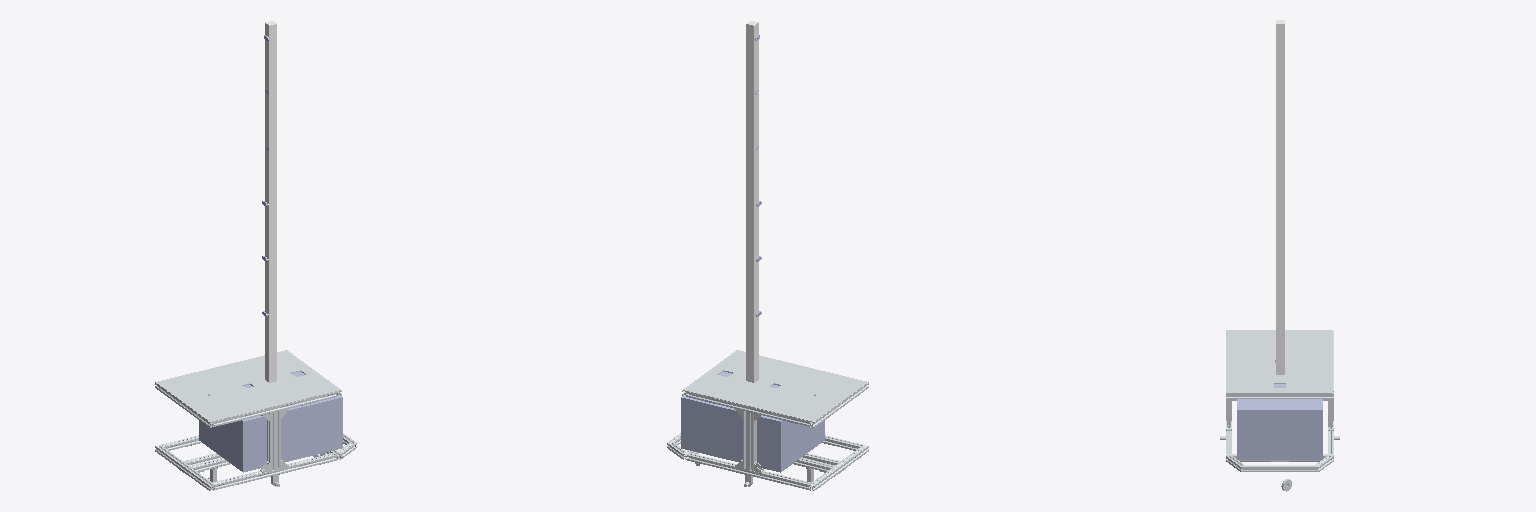
The robot description file, URDF, robot "GazeboV0":
<?xml version="1.0" encoding="utf-8"?>
<!-- This URDF was automatically created by SolidWorks to URDF Exporter! Originally created by [author] ([email redacted]) 
     Commit Version: 1.5.1-0-g916b5db  Build Version: 1.5.7152.31018
     For more information, please see http://wiki.ros.org/sw_urdf_exporter -->
<robot
  name="GazeboV0">
  <link
    name="Chassis">
    <inertial>
      <origin
        xyz="0.0269095443731569 0.0453323740979076 0.00338251947577584"
        rpy="0 0 0" />
      <mass
        value="4.71173330321545" />
      <inertia
        ixx="0.131230257498409"
        ixy="-0.00965992784236992"
        ixz="-5.99613989356189E-08"
        iyy="0.195410162986863"
        iyz="6.45264756717054E-06"
        izz="0.183471725736634" />
    </inertial>
    <visual>
      <origin
        xyz="0 0 0"
        rpy="0 0 0" />
      <geometry>
        <mesh
          filename="package://GazeboV0/meshes/Chassis.STL" />
      </geometry>
      <material
        name="">
        <color
          rgba="0.898039215686275 0.917647058823529 0.929411764705882 1" />
      </material>
    </visual>
    <collision>
      <origin
        xyz="0 0 0"
        rpy="0 0 0" />
      <geometry>
        <mesh
          filename="package://GazeboV0/meshes/Chassis.STL" />
      </geometry>
    </collision>
  </link>
  <link
    name="RightWheel">
    <inertial>
      <origin
        xyz="-4.16333634234434E-17 0 0.00510000000000468"
        rpy="0 0 0" />
      <mass
        value="0.338614058747035" />
      <inertia
        ixx="0.000347581051317554"
        ixy="-1.01643953670217E-20"
        ixz="-2.39239615850713E-18"
        iyy="0.000347581051317554"
        iyz="4.29776253994726E-19"
        izz="0.000689518301963574" />
    </inertial>
    <visual>
      <origin
        xyz="0 0 0"
        rpy="0 0 0" />
      <geometry>
        <mesh
          filename="package://GazeboV0/meshes/RightWheel.STL" />
      </geometry>
      <material
        name="">
        <color
          rgba="0.898039215686275 0.917647058823529 0.929411764705882 1" />
      </material>
    </visual>
    <collision>
      <origin
        xyz="0 0 0"
        rpy="0 0 0" />
      <geometry>
        <mesh
          filename="package://GazeboV0/meshes/RightWheel.STL" />
      </geometry>
    </collision>
  </link>
  <joint
    name="RightRevolute"
    type="continuous">
    <origin
      xyz="0.040115 0.18594 -0.13626"
      rpy="-1.5708 0.15664 0" />
    <parent
      link="Chassis" />
    <child
      link="RightWheel" />
    <axis
      xyz="0 0 1" />
    <dynamics
      damping="0.01"
      friction="0.01" />
  </joint>
  <link
    name="LeftWheel">
    <inertial>
      <origin
        xyz="9.75608482889356E-15 -3.19189119579733E-16 -0.384296129215001"
        rpy="0 0 0" />
      <mass
        value="0.338614058747035" />
      <inertia
        ixx="0.000347581051317554"
        ixy="3.65109595413485E-32"
        ixz="-8.76963966855234E-18"
        iyy="0.000347581051317554"
        iyz="3.26098816688528E-19"
        izz="0.000689518301963574" />
    </inertial>
    <visual>
      <origin
        xyz="0 0 0"
        rpy="0 0 0" />
      <geometry>
        <mesh
          filename="package://GazeboV0/meshes/LeftWheel.STL" />
      </geometry>
      <material
        name="">
        <color
          rgba="0.898039215686275 0.917647058823529 0.929411764705882 1" />
      </material>
    </visual>
    <collision>
      <origin
        xyz="0 0 0"
        rpy="0 0 0" />
      <geometry>
        <mesh
          filename="package://GazeboV0/meshes/LeftWheel.STL" />
      </geometry>
    </collision>
  </link>
  <joint
    name="LeftRevolute"
    type="continuous">
    <origin
      xyz="0.040115 0.18594 -0.13626"
      rpy="-1.5708 -0.8089 0" />
    <parent
      link="Chassis" />
    <child
      link="LeftWheel" />
    <axis
      xyz="0 0 1" />
    <dynamics
      damping="0.01"
      friction="0.01" />
  </joint>
  <link
    name="FrontCastor">
    <inertial>
      <origin
        xyz="0.0030314489318095 0.0345627416364458 -2.33146835171283E-15"
        rpy="0 0 0" />
      <mass
        value="0.0671525104446695" />
      <inertia
        ixx="4.49259698602968E-05"
        ixy="-6.70501812216222E-06"
        ixz="6.59626907674286E-20"
        iyy="9.61913985679315E-06"
        iyz="3.5488033511995E-19"
        izz="4.97992078191438E-05" />
    </inertial>
    <visual>
      <origin
        xyz="0 0 0"
        rpy="0 0 0" />
      <geometry>
        <mesh
          filename="package://GazeboV0/meshes/FrontCastor.STL" />
      </geometry>
      <material
        name="">
        <color
          rgba="0.898039215686275 0.917647058823529 0.929411764705882 1" />
      </material>
    </visual>
    <collision>
      <origin
        xyz="0 0 0"
        rpy="0 0 0" />
      <geometry>
        <mesh
          filename="package://GazeboV0/meshes/FrontCastor.STL" />
      </geometry>
    </collision>
  </link>
  <joint
    name="FrontCastorRevolute"
    type="continuous">
    <origin
      xyz="-0.17901 -0.0033514 -0.11126"
      rpy="-1.5708 0 1.5956" />
    <parent
      link="Chassis" />
    <child
      link="FrontCastor" />
    <axis
      xyz="0 1 0" />
    <dynamics
      damping="0.01"
      friction="0.01" />
  </joint>
  <link
    name="FrontCastorWheel">
    <inertial>
      <origin
        xyz="0 -1.38777878078145E-17 -2.692290834716E-15"
        rpy="0 0 0" />
      <mass
        value="0.0317645176567402" />
      <inertia
        ixx="3.91504603938205E-06"
        ixy="7.41153828847513E-22"
        ixz="2.11096492323533E-21"
        iyy="3.91504603938204E-06"
        iyz="-3.64621214013375E-21"
        izz="7.40108172021949E-06" />
    </inertial>
    <visual>
      <origin
        xyz="0 0 0"
        rpy="0 0 0" />
      <geometry>
        <mesh
          filename="package://GazeboV0/meshes/FrontCastorWheel.STL" />
      </geometry>
      <material
        name="">
        <color
          rgba="0.898039215686275 0.917647058823529 0.929411764705882 1" />
      </material>
    </visual>
    <collision>
      <origin
        xyz="0 0 0"
        rpy="0 0 0" />
      <geometry>
        <mesh
          filename="package://GazeboV0/meshes/FrontCastorWheel.STL" />
      </geometry>
    </collision>
  </link>
  <joint
    name="FrontCastorWheelRevolute"
    type="continuous">
    <origin
      xyz="0.032 0.0675 0"
      rpy="0 0 1.984" />
    <parent
      link="FrontCastor" />
    <child
      link="FrontCastorWheel" />
    <axis
      xyz="0 0 1" />
    <dynamics
      damping="0.01"
      friction="0.01" />
  </joint>
  <link
    name="RearCastor">
    <inertial>
      <origin
        xyz="0.00303144893180851 0.0345627416364456 -1.22124532708767E-14"
        rpy="0 0 0" />
      <mass
        value="0.0671525104446697" />
      <inertia
        ixx="4.49259698602973E-05"
        ixy="-6.70501812216102E-06"
        ixz="3.2695471764016E-19"
        iyy="9.61913985679271E-06"
        iyz="1.94821687675364E-18"
        izz="4.97992078191438E-05" />
    </inertial>
    <visual>
      <origin
        xyz="0 0 0"
        rpy="0 0 0" />
      <geometry>
        <mesh
          filename="package://GazeboV0/meshes/RearCastor.STL" />
      </geometry>
      <material
        name="">
        <color
          rgba="0.898039215686275 0.917647058823529 0.929411764705882 1" />
      </material>
    </visual>
    <collision>
      <origin
        xyz="0 0 0"
        rpy="0 0 0" />
      <geometry>
        <mesh
          filename="package://GazeboV0/meshes/RearCastor.STL" />
      </geometry>
    </collision>
  </link>
  <joint
    name="RearCastorRevolute"
    type="continuous">
    <origin
      xyz="0.25924 -0.0033514 -0.11126"
      rpy="-1.5708 0 2.3562" />
    <parent
      link="Chassis" />
    <child
      link="RearCastor" />
    <axis
      xyz="0 1 0" />
    <dynamics
      damping="0.01"
      friction="0.01" />
  </joint>
  <link
    name="RearCastorWheel">
    <inertial>
      <origin
        xyz="0 2.77555756156289E-17 -1.01862962509358E-14"
        rpy="0 0 0" />
      <mass
        value="0.0317645176567403" />
      <inertia
        ixx="3.91504603938205E-06"
        ixy="-5.82335151237331E-22"
        ixz="-1.79994501291539E-21"
        iyy="3.91504603938205E-06"
        iyz="1.05879118406788E-22"
        izz="7.4010817202195E-06" />
    </inertial>
    <visual>
      <origin
        xyz="0 0 0"
        rpy="0 0 0" />
      <geometry>
        <mesh
          filename="package://GazeboV0/meshes/RearCastorWheel.STL" />
      </geometry>
      <material
        name="">
        <color
          rgba="0.898039215686275 0.917647058823529 0.929411764705882 1" />
      </material>
    </visual>
    <collision>
      <origin
        xyz="0 0 0"
        rpy="0 0 0" />
      <geometry>
        <mesh
          filename="package://GazeboV0/meshes/RearCastorWheel.STL" />
      </geometry>
    </collision>
  </link>
  <joint
    name="RearCastorWheelRevolute"
    type="continuous">
    <origin
      xyz="0.032 0.0675 0"
      rpy="0 0 0.34434" />
    <parent
      link="RearCastor" />
    <child
      link="RearCastorWheel" />
    <axis
      xyz="0 0 1" />
    <dynamics
      damping="0.01"
      friction="0.01" />
  </joint>
  <link
    name="Battery">
    <inertial>
      <origin
        xyz="-2.77555756156289E-17 0.0925 2.82152773367628E-15"
        rpy="0 0 0" />
      <mass
        value="17.512433" />
      <inertia
        ixx="0.172679886227083"
        ixy="-7.17521943866141E-17"
        ixz="-9.46607853575198E-16"
        iyy="0.333465911708333"
        iyz="2.24903143829696E-15"
        izz="0.260679862052083" />
    </inertial>
    <visual>
      <origin
        xyz="0 0 0"
        rpy="0 0 0" />
      <geometry>
        <mesh
          filename="package://GazeboV0/meshes/Battery.STL" />
      </geometry>
      <material
        name="">
        <color
          rgba="0.792156862745098 0.819607843137255 0.933333333333333 1" />
      </material>
    </visual>
    <collision>
      <origin
        xyz="0 0 0"
        rpy="0 0 0" />
      <geometry>
        <mesh
          filename="package://GazeboV0/meshes/Battery.STL" />
      </geometry>
    </collision>
  </link>
  <joint
    name="Fixed_Chassis_Battery"
    type="fixed">
    <origin
      xyz="0.040115 -0.0036514 0.097745"
      rpy="-1.5708 0 3.1416" />
    <parent
      link="Chassis" />
    <child
      link="Battery" />
    <axis
      xyz="0 0 0" />
  </joint>
  <link
    name="LiDAR">
    <inertial>
      <origin
        xyz="-2.77555756156289E-17 0.02 5.63785129692462E-18"
        rpy="0 0 0" />
      <mass
        value="0.064" />
      <inertia
        ixx="1.70666666666667E-05"
        ixy="2.58629900392802E-22"
        ixz="8.21376807141E-22"
        iyy="1.70666666666667E-05"
        iyz="1.20423640868724E-22"
        izz="1.70666666666667E-05" />
    </inertial>
    <visual>
      <origin
        xyz="0 0 0"
        rpy="0 0 0" />
      <geometry>
        <mesh
          filename="package://GazeboV0/meshes/LiDAR.STL" />
      </geometry>
      <material
        name="">
        <color
          rgba="0.792156862745098 0.819607843137255 0.933333333333333 1" />
      </material>
    </visual>
    <collision>
      <origin
        xyz="0 0 0"
        rpy="0 0 0" />
      <geometry>
        <mesh
          filename="package://GazeboV0/meshes/LiDAR.STL" />
      </geometry>
    </collision>
  </link>
  <joint
    name="Fixed_Battery_LiDAR"
    type="fixed">
    <origin
      xyz="-0.14989 -0.0033514 0.10474"
      rpy="1.5708 0 3.1416" />
    <parent
      link="Chassis" />
    <child
      link="LiDAR" />
    <axis
      xyz="0 0 0" />
  </joint>
  <link
    name="WoodRod">
    <inertial>
      <origin
        xyz="-2.26988566831565E-15 -5.15756125557543E-06 0.650041260490045"
        rpy="0 0 0" />
      <mass
        value="0.701710470821045" />
      <inertia
        ixx="0.098880929063303"
        ixy="-5.19150998271822E-22"
        ixz="3.44989160057102E-16"
        iyy="0.0988809460746776"
        iyz="-3.62060800140933E-07"
        izz="0.000105225289802979" />
    </inertial>
    <visual>
      <origin
        xyz="0 0 0"
        rpy="0 0 0" />
      <geometry>
        <mesh
          filename="package://GazeboV0/meshes/WoodRod.STL" />
      </geometry>
      <material
        name="">
        <color
          rgba="1 1 1 1" />
      </material>
    </visual>
    <collision>
      <origin
        xyz="0 0 0"
        rpy="0 0 0" />
      <geometry>
        <mesh
          filename="package://GazeboV0/meshes/WoodRod.STL" />
      </geometry>
    </collision>
  </link>
  <joint
    name="Fixed_Chassis_WoodRod"
    type="fixed">
    <origin
      xyz="0.040115 -0.0033514 1.4407"
      rpy="3.1416 0 -1.5708" />
    <parent
      link="Chassis" />
    <child
      link="WoodRod" />
    <axis
      xyz="0 0 0" />
  </joint>
  <link
    name="TBS1">
    <inertial>
      <origin
        xyz="-2.08166817117217E-17 0 -0.00275"
        rpy="0 0 0" />
      <mass
        value="0.00173867551882195" />
      <inertia
        ixx="2.81242393072002E-08"
        ixy="-1.07733169308297E-25"
        ixz="6.43232433632577E-22"
        iyy="9.57958648484737E-08"
        iyz="4.9157531355283E-25"
        izz="1.1515428174828E-07" />
    </inertial>
    <visual>
      <origin
        xyz="0 0 0"
        rpy="0 0 0" />
      <geometry>
        <mesh
          filename="package://GazeboV0/meshes/TBS1.STL" />
      </geometry>
      <material
        name="">
        <color
          rgba="0.792156862745098 0.819607843137255 0.933333333333333 1" />
      </material>
    </visual>
    <collision>
      <origin
        xyz="0 0 0"
        rpy="0 0 0" />
      <geometry>
        <mesh
          filename="package://GazeboV0/meshes/TBS1.STL" />
      </geometry>
    </collision>
  </link>
  <joint
    name="Fixed_WoodRod_TBS1"
    type="fixed">
    <origin
      xyz="0 0.0205 1.05"
      rpy="-1.5708 0 0" />
    <parent
      link="WoodRod" />
    <child
      link="TBS1" />
    <axis
      xyz="0 0 0" />
  </joint>
  <link
    name="TBS2">
    <inertial>
      <origin
        xyz="-2.99239799605999E-17 0 -0.00275"
        rpy="0 0 0" />
      <mass
        value="0.00173867551882196" />
      <inertia
        ixx="2.81242393072003E-08"
        ixy="-7.56516223604374E-23"
        ixz="6.43735947518725E-22"
        iyy="9.57958648484739E-08"
        iyz="-2.36343625492949E-25"
        izz="1.1515428174828E-07" />
    </inertial>
    <visual>
      <origin
        xyz="0 0 0"
        rpy="0 0 0" />
      <geometry>
        <mesh
          filename="package://GazeboV0/meshes/TBS2.STL" />
      </geometry>
      <material
        name="">
        <color
          rgba="0.792156862745098 0.819607843137255 0.933333333333333 1" />
      </material>
    </visual>
    <collision>
      <origin
        xyz="0 0 0"
        rpy="0 0 0" />
      <geometry>
        <mesh
          filename="package://GazeboV0/meshes/TBS2.STL" />
      </geometry>
    </collision>
  </link>
  <joint
    name="Fixed_WoodRod_TBS2"
    type="fixed">
    <origin
      xyz="0 0.0205 0.85"
      rpy="-1.5707963267949 0 0" />
    <parent
      link="WoodRod" />
    <child
      link="TBS2" />
    <axis
      xyz="0 0 0" />
  </joint>
  <link
    name="TBS3">
    <inertial>
      <origin
        xyz="-2.12503625807159E-17 0 -0.00275"
        rpy="0 0 0" />
      <mass
        value="0.00173867551882195" />
      <inertia
        ixx="2.81242393072002E-08"
        ixy="-1.50916302612396E-22"
        ixz="6.44887958080419E-22"
        iyy="9.57958648484737E-08"
        iyz="-2.36343625492254E-25"
        izz="1.1515428174828E-07" />
    </inertial>
    <visual>
      <origin
        xyz="0 0 0"
        rpy="0 0 0" />
      <geometry>
        <mesh
          filename="package://GazeboV0/meshes/TBS3.STL" />
      </geometry>
      <material
        name="">
        <color
          rgba="0.792156862745098 0.819607843137255 0.933333333333333 1" />
      </material>
    </visual>
    <collision>
      <origin
        xyz="0 0 0"
        rpy="0 0 0" />
      <geometry>
        <mesh
          filename="package://GazeboV0/meshes/TBS3.STL" />
      </geometry>
    </collision>
  </link>
  <joint
    name="Fixed_WoodRod_TBS3"
    type="fixed">
    <origin
      xyz="0 0.0205 0.65"
      rpy="-1.5707963267949 0 0" />
    <parent
      link="WoodRod" />
    <child
      link="TBS3" />
    <axis
      xyz="0 0 0" />
  </joint>
  <link
    name="TBS4">
    <inertial>
      <origin
        xyz="2.73218947466347E-17 4.09782208166121E-11 -0.00275000000000001"
        rpy="0 0 0" />
      <mass
        value="0.00173867551882195" />
      <inertia
        ixx="2.81242393072002E-08"
        ixy="-1.57689833672588E-22"
        ixz="-6.4427241597485E-22"
        iyy="9.57958648484737E-08"
        iyz="-2.88462890935071E-16"
        izz="1.1515428174828E-07" />
    </inertial>
    <visual>
      <origin
        xyz="0 0 0"
        rpy="0 0 0" />
      <geometry>
        <mesh
          filename="package://GazeboV0/meshes/TBS4.STL" />
      </geometry>
      <material
        name="">
        <color
          rgba="0.792156862745098 0.819607843137255 0.933333333333333 1" />
      </material>
    </visual>
    <collision>
      <origin
        xyz="0 0 0"
        rpy="0 0 0" />
      <geometry>
        <mesh
          filename="package://GazeboV0/meshes/TBS4.STL" />
      </geometry>
    </collision>
  </link>
  <joint
    name="Fixed_WoodRod_TBS4"
    type="fixed">
    <origin
      xyz="0 0.015 0.45"
      rpy="1.57079631189374 0 0" />
    <parent
      link="WoodRod" />
    <child
      link="TBS4" />
    <axis
      xyz="0 0 0" />
  </joint>
  <link
    name="TBS5">
    <inertial>
      <origin
        xyz="3.03576608295941E-18 4.09781097943096E-11 -0.00275"
        rpy="0 0 0" />
      <mass
        value="0.00173867551882196" />
      <inertia
        ixx="2.81242393072001E-08"
        ixy="-1.73790056307107E-22"
        ixz="-6.47487423003288E-22"
        iyy="9.57958648484739E-08"
        iyz="-2.88462890345463E-16"
        izz="1.1515428174828E-07" />
    </inertial>
    <visual>
      <origin
        xyz="0 0 0"
        rpy="0 0 0" />
      <geometry>
        <mesh
          filename="package://GazeboV0/meshes/TBS5.STL" />
      </geometry>
      <material
        name="">
        <color
          rgba="0.792156862745098 0.819607843137255 0.933333333333333 1" />
      </material>
    </visual>
    <collision>
      <origin
        xyz="0 0 0"
        rpy="0 0 0" />
      <geometry>
        <mesh
          filename="package://GazeboV0/meshes/TBS5.STL" />
      </geometry>
    </collision>
  </link>
  <joint
    name="Fixed_WoodRod_TBS5"
    type="fixed">
    <origin
      xyz="0 0.015 0.25"
      rpy="1.57079631189374 0 0" />
    <parent
      link="WoodRod" />
    <child
      link="TBS5" />
    <axis
      xyz="0 0 0" />
  </joint>
  <link
    name="TBS6">
    <inertial>
      <origin
        xyz="-3.86902350435481E-11 3.69675751390464E-05 0.00274975151575344"
        rpy="0 0 0" />
      <mass
        value="0.00173867551882195" />
      <inertia
        ixx="2.81242393072E-08"
        ixy="-3.66121094548663E-18"
        ixz="-1.22450245460564E-15"
        iyy="9.5799363062521E-08"
        iyz="2.60206933872073E-10"
        izz="1.15150783534232E-07" />
    </inertial>
    <visual>
      <origin
        xyz="0 0 0"
        rpy="0 0 0" />
      <geometry>
        <mesh
          filename="package://GazeboV0/meshes/TBS6.STL" />
      </geometry>
      <material
        name="">
        <color
          rgba="0.792156862745098 0.819607843137255 0.933333333333333 1" />
      </material>
    </visual>
    <collision>
      <origin
        xyz="0 0 0"
        rpy="0 0 0" />
      <geometry>
        <mesh
          filename="package://GazeboV0/meshes/TBS6.STL" />
      </geometry>
    </collision>
  </link>
  <joint
    name="Fixed_WoodRod_TBS6"
    type="fixed">
    <origin
      xyz="0 0.015 0.0500000000000003"
      rpy="-1.55735316729788 0 0" />
    <parent
      link="WoodRod" />
    <child
      link="TBS6" />
    <axis
      xyz="0 0 0" />
  </joint>
  <link
    name="Camera">
    <inertial>
      <origin
        xyz="0 0.0025 0"
        rpy="0 0 0" />
      <mass
        value="0.000125" />
      <inertia
        ixx="5.20833333333335E-10"
        ixy="3.24240024973725E-25"
        ixz="2.35533258742828E-26"
        iyy="5.20833333333335E-10"
        iyz="-4.66256020423435E-25"
        izz="5.20833333333335E-10" />
    </inertial>
    <visual>
      <origin
        xyz="0 0 0"
        rpy="0 0 0" />
      <geometry>
        <mesh
          filename="package://GazeboV0/meshes/Camera.STL" />
      </geometry>
      <material
        name="">
        <color
          rgba="0.792156862745098 0.819607843137255 0.933333333333333 1" />
      </material>
    </visual>
    <collision>
      <origin
        xyz="0 0 0"
        rpy="0 0 0" />
      <geometry>
        <mesh
          filename="package://GazeboV0/meshes/Camera.STL" />
      </geometry>
    </collision>
  </link>
  <joint
    name="Fixed_Chassis_Camera"
    type="fixed">
    <origin
      xyz="-0.19689 -0.00085136 0.14724"
      rpy="-3.1416 0 0" />
    <parent
      link="Chassis" />
    <child
      link="Camera" />
    <axis
      xyz="0 0 0" />
  </joint>
</robot>

--- Render facts (derived) ---
Views: 3 orthographic renders of the robot side by side, from view 1: azimuth 30°, elevation 25°; view 2: azimuth 150°, elevation 25°; view 3: azimuth 270°, elevation 25°.
Model GazeboV0 with 17 links and 16 joints (6 continuous, 10 fixed), rooted at Chassis, posed all joints at 0.
Links seen in each view (by area): view 1: Chassis, Battery, WoodRod; view 2: Chassis, Battery, WoodRod; view 3: Chassis, Battery, WoodRod.
Boxes of the visible links, x1=… form: Chassis: x1=155, y1=350, x2=356, y2=490; Battery: x1=199, y1=371, x2=342, y2=472; WoodRod: x1=265, y1=21, x2=276, y2=382; Chassis: x1=667, y1=350, x2=868, y2=490; Battery: x1=681, y1=371, x2=824, y2=472; WoodRod: x1=746, y1=21, x2=758, y2=382; Chassis: x1=1220, y1=330, x2=1339, y2=471; Battery: x1=1237, y1=362, x2=1322, y2=459; WoodRod: x1=1276, y1=20, x2=1284, y2=374.
Bounding box of the posed robot: 0.5866 × 0.3994 × 1.64 m (x, y, z).
Meshes: 17 distinct files referenced, 13 mesh visuals loaded (13 binary STL); not drawn: 4 (reference not matched to a file when rendering).